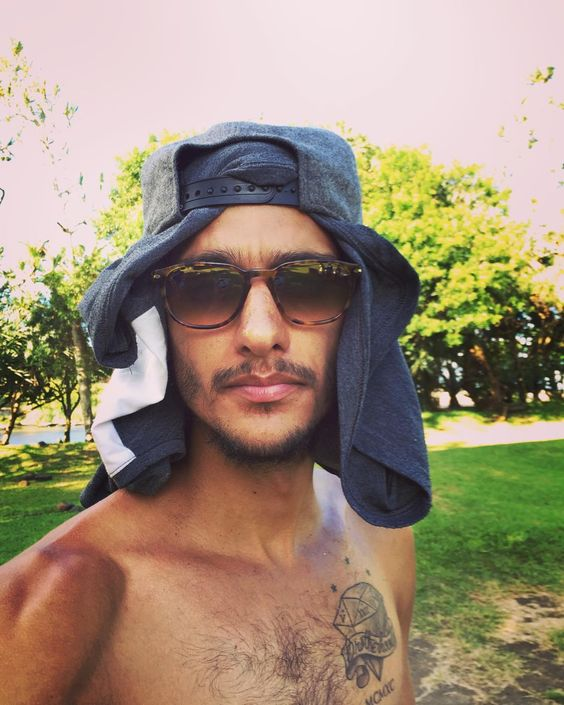sunglasses: (144, 264, 354, 329), (151, 263, 355, 323)
